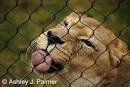lion: (25, 13, 128, 87)
